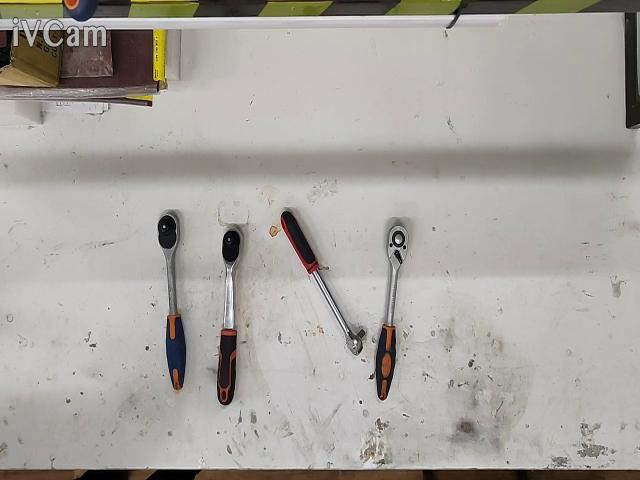Ratchet: (280, 210, 365, 355), (375, 223, 409, 400), (158, 210, 186, 392), (218, 228, 242, 405)
